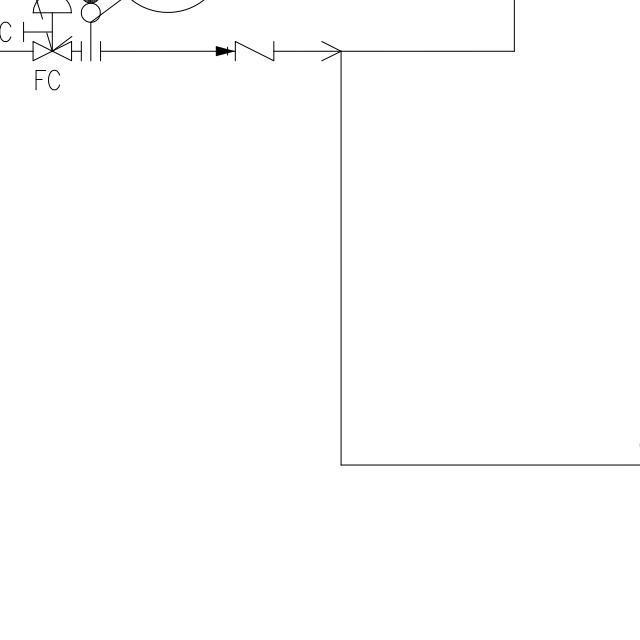FC: (29, 0, 77, 66)
